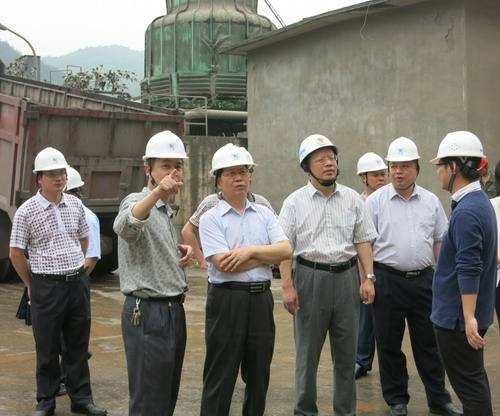white: (432, 130, 485, 191), (141, 128, 185, 193), (209, 140, 253, 203), (295, 131, 342, 187), (384, 136, 421, 190), (32, 145, 68, 197), (354, 151, 387, 192)
